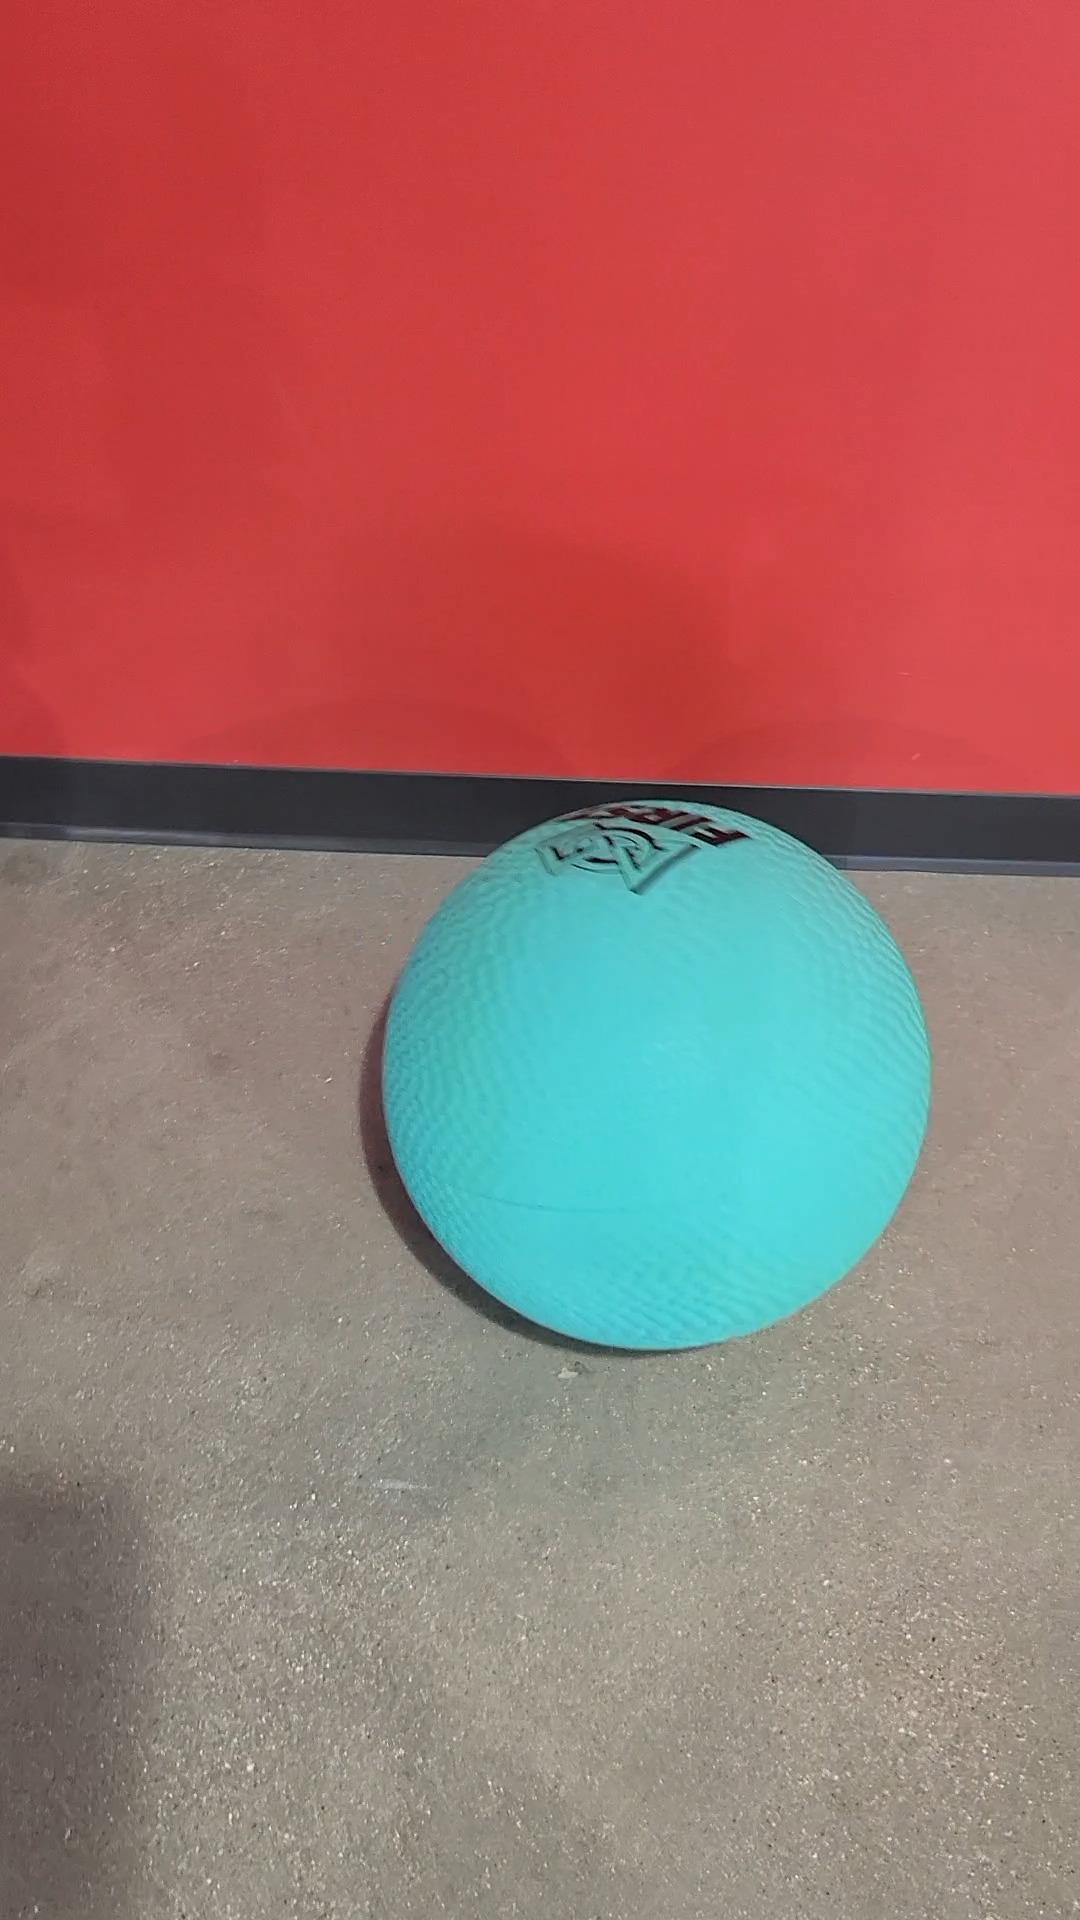algae: (378, 808, 927, 1341)
